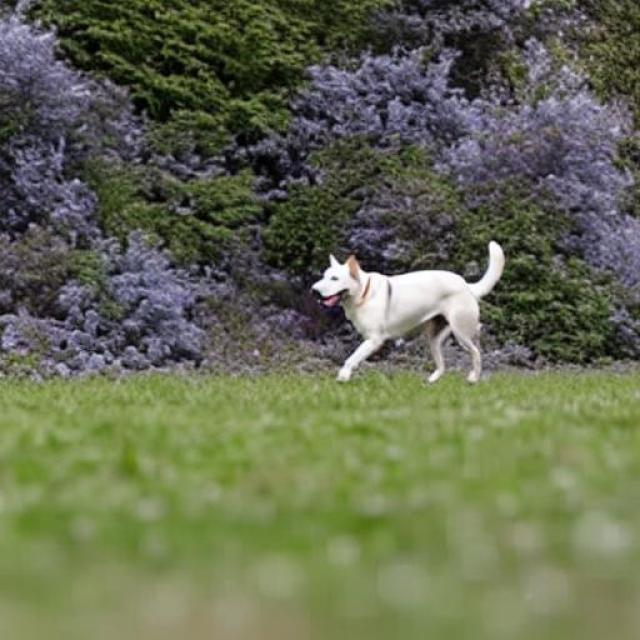Dog: (312, 240, 505, 384)
